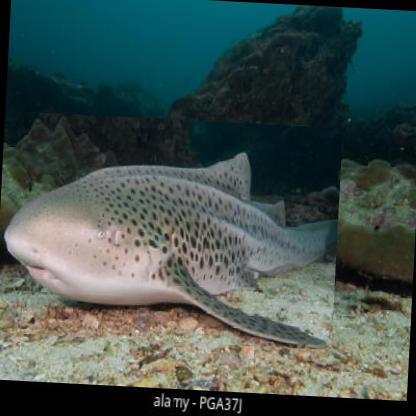zebra_shark: (0, 110, 344, 351)
